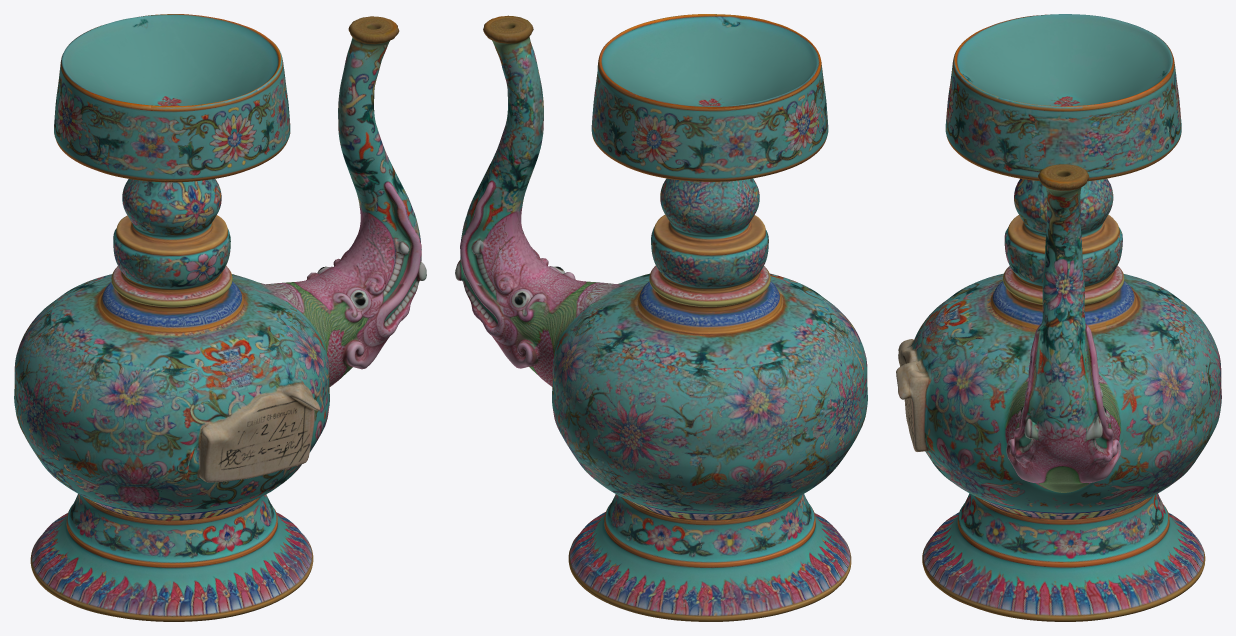
File: 绿地粉彩勾莲八宝纹奔巴壶.glb
The picture shows the model from 3 angles, left to right: view 1: azimuth 30°, elevation 25°; view 2: azimuth 150°, elevation 25°; view 3: azimuth 270°, elevation 25°; orthographic projection.
Parts seen in each view (by area): view 1: tripo_node_a3e7ce1f; view 2: tripo_node_a3e7ce1f; view 3: tripo_node_a3e7ce1f.
Part boxes in pixels (x1,y1,x2,y2): tripo_node_a3e7ce1f: [14, 14, 426, 621]; tripo_node_a3e7ce1f: [455, 14, 867, 621]; tripo_node_a3e7ce1f: [896, 14, 1221, 621].
Bounding box in the file's own units: 77.77 × 98.11 × 57.45.
Materials: 1 (1 with a texture image).
